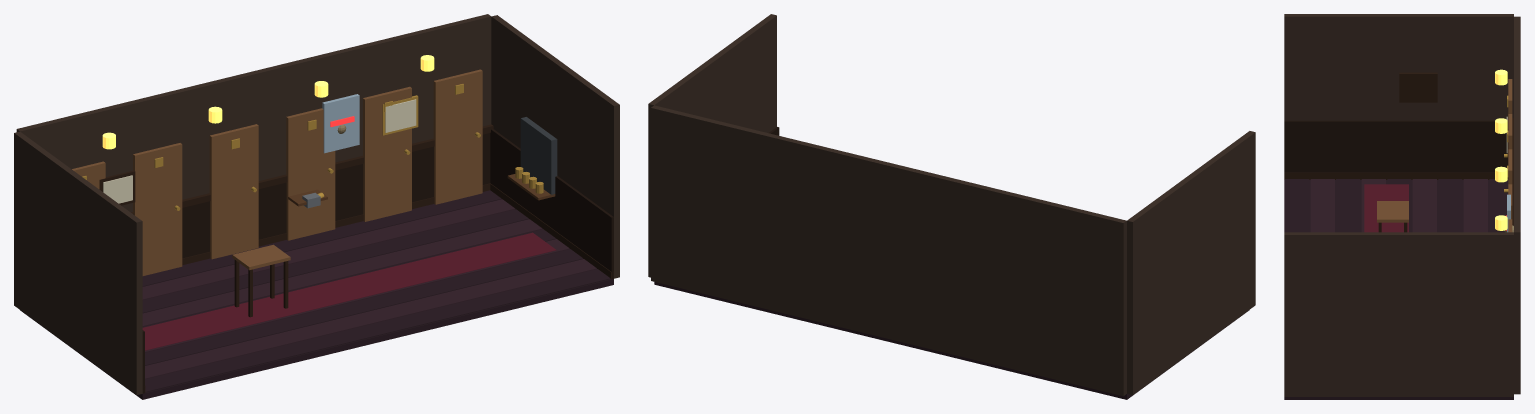
Rendered from me_corridor.glb.
The picture shows the model from 3 angles, left to right: view 1: azimuth 30°, elevation 25°; view 2: azimuth 150°, elevation 25°; view 3: azimuth 270°, elevation 25°; orthographic projection. The views are drawn at different scales.
Parts seen in each view (by area): view 1: WallBack, WallLeft, WallRight, Runner, Plank0, Plank1, Door5, Door2, Plank2, BandBack, BandRight, Door1 (+17 smaller); view 2: WallBack, WallLeft, WallRight, Floor; view 3: WallRight, WallLeft, BandLeft, WallBack, SkirtLeft, Runner, Floor, Plank0, Plank1, Plank2, Plank5, Plank6 (+6 smaller).
Part boxes in pixels (<box>): WallBack: <box>16,14,491,212</box>; WallLeft: <box>14,131,142,395</box>; WallRight: <box>491,15,619,278</box>; Runner: <box>142,232,556,350</box>; Plank0: <box>145,269,610,392</box>; Plank1: <box>145,259,596,379</box>; Door5: <box>433,69,482,204</box>; Door2: <box>209,124,258,259</box>; Plank2: <box>145,249,583,365</box>; BandBack: <box>182,133,490,258</box>; BandRight: <box>490,129,613,278</box>; Door1: <box>133,143,182,275</box>; WallBack: <box>651,105,1126,396</box>; WallLeft: <box>1127,131,1255,395</box>; WallRight: <box>648,14,776,277</box>; Floor: <box>654,282,1249,399</box>; WallRight: <box>1284,232,1513,396</box>; WallLeft: <box>1284,14,1513,120</box>; BandLeft: <box>1284,120,1508,172</box>; WallBack: <box>1514,16,1520,394</box>; SkirtLeft: <box>1284,172,1508,179</box>; Runner: <box>1364,184,1408,232</box>; Floor: <box>1284,180,1513,399</box>; Plank0: <box>1285,179,1309,232</box>; Plank1: <box>1310,179,1334,232</box>; Plank2: <box>1336,179,1360,232</box>; Plank5: <box>1412,179,1436,232</box>; Plank6: <box>1438,179,1462,232</box>.
Size of the model in its own units: 8.2 by 2.9 by 3.7.
